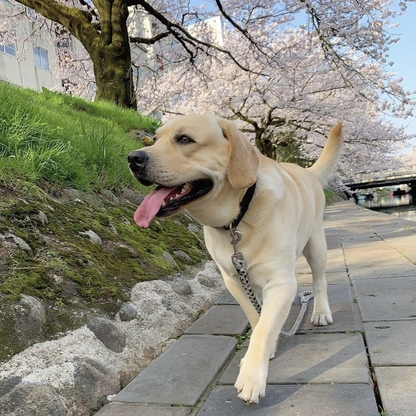labrado: (123, 109, 347, 409)
